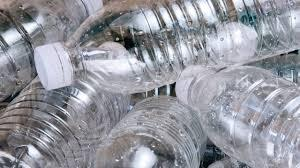Plastic bottle: (22, 0, 300, 94), (0, 95, 297, 166)
